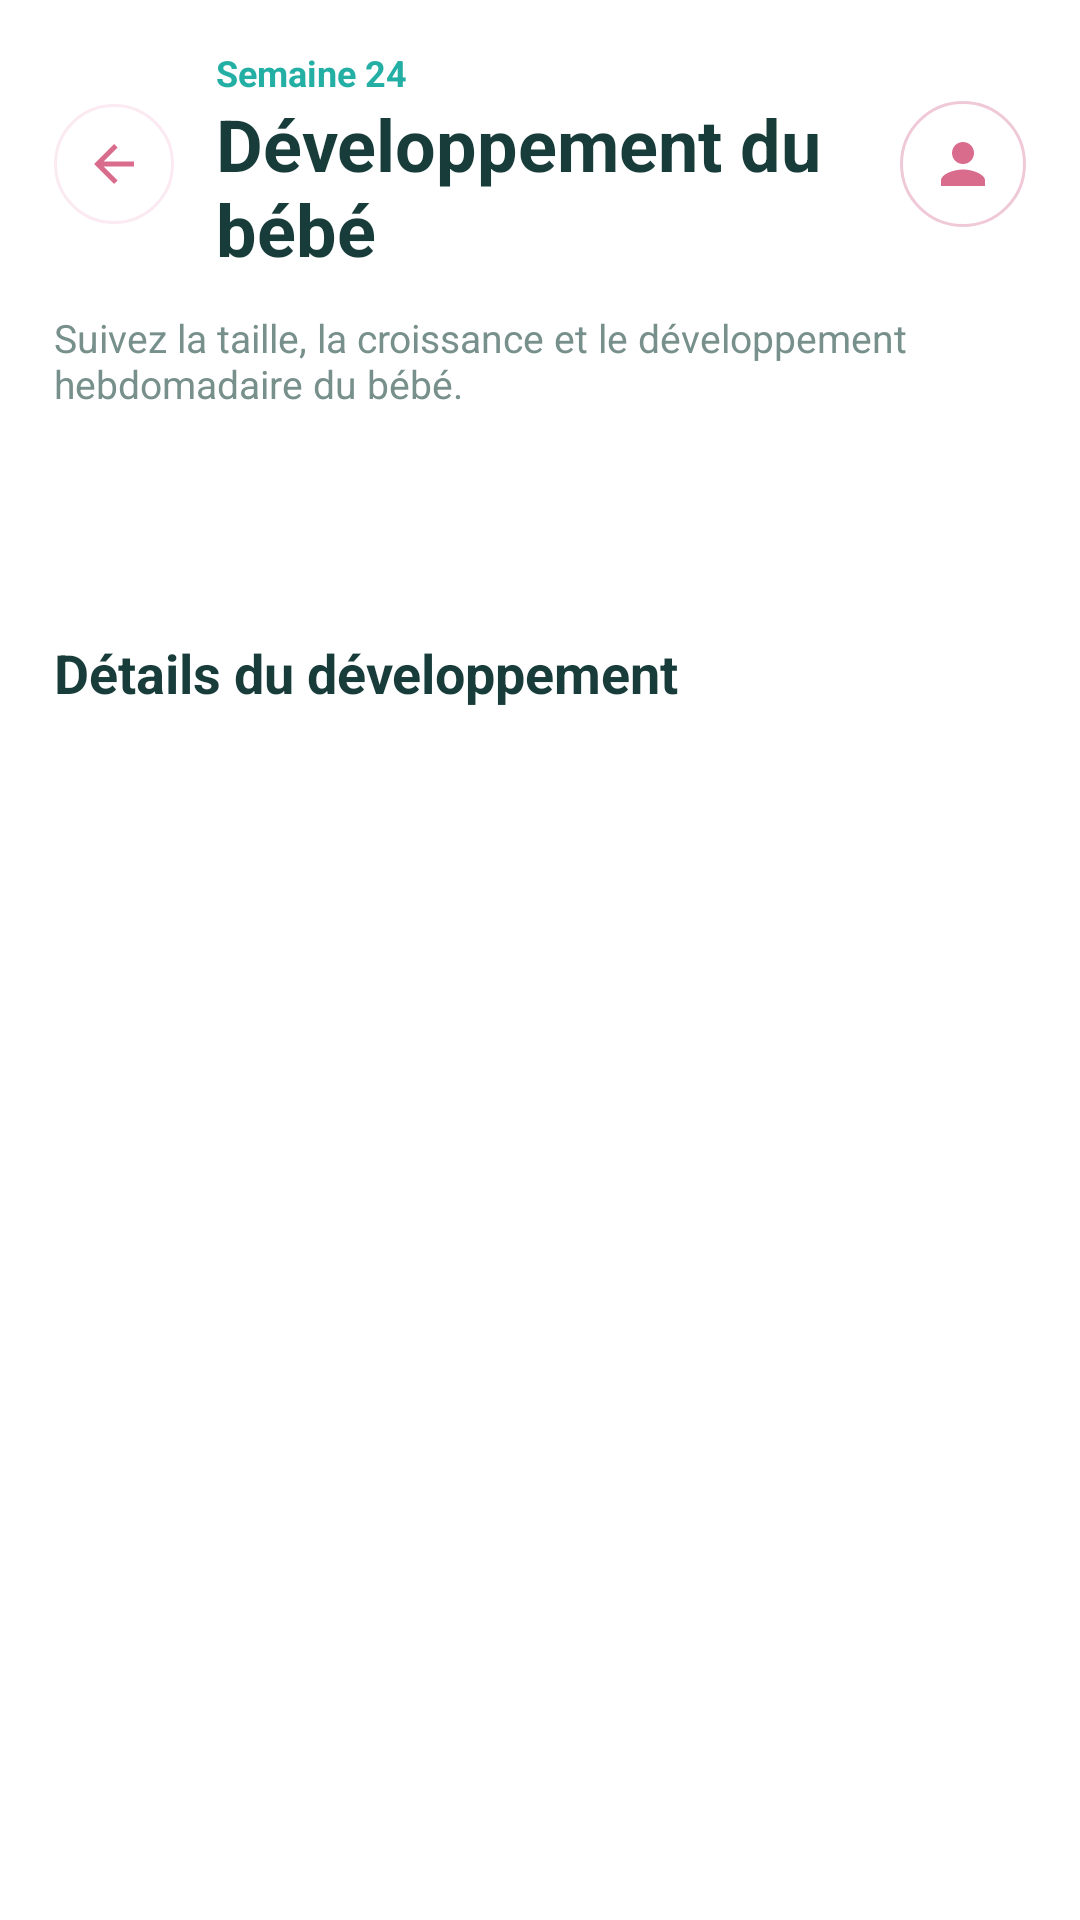

Locate icon controls on the screen. Image size 1080 × 1920, boxes as region(x1, y1, x2, y2).
Profil: region(900, 101, 1026, 227)
Retour: region(94, 144, 134, 184)
